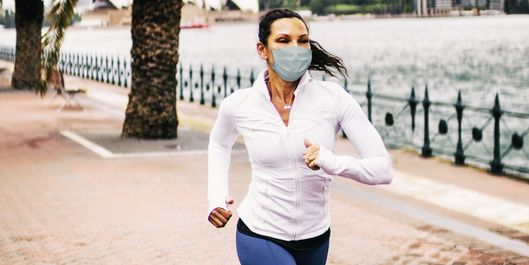with_mask: (255, 12, 317, 83)
